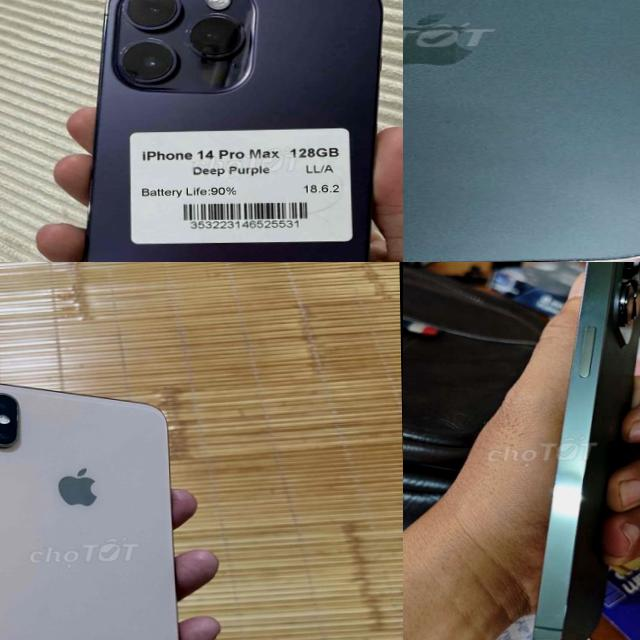gen_12_13: (403, 0, 640, 262), (512, 262, 640, 640)
gen_14: (65, 0, 394, 262)
gen_x_xs: (0, 374, 189, 640)
